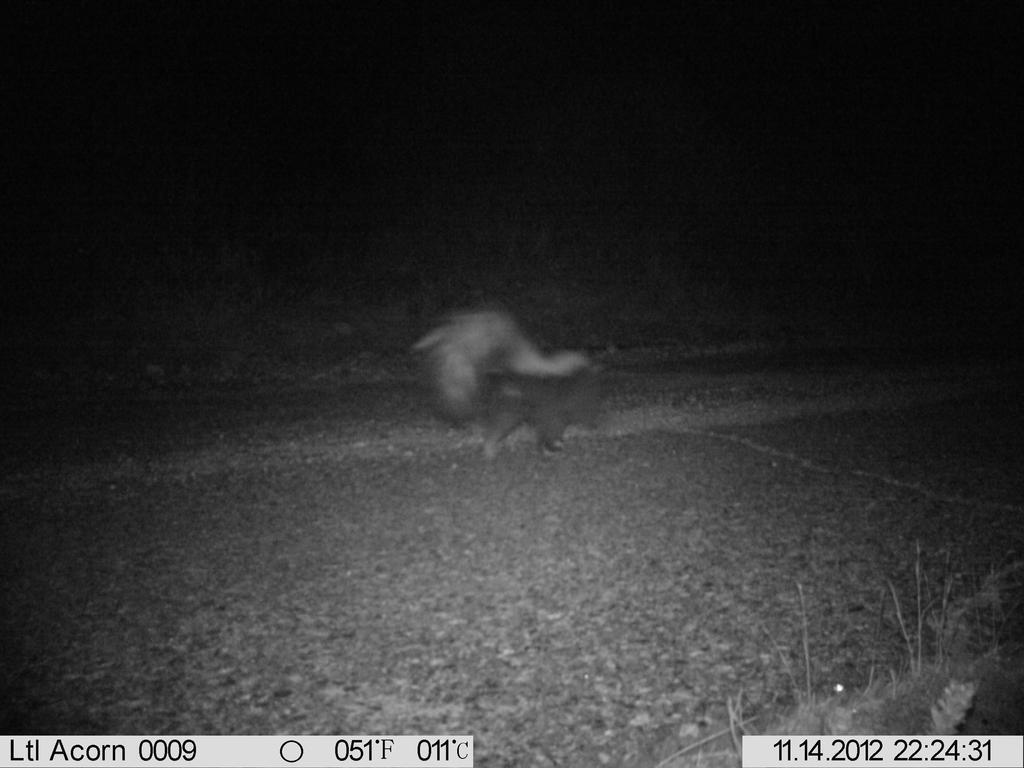skunk: (415, 303, 637, 479)
